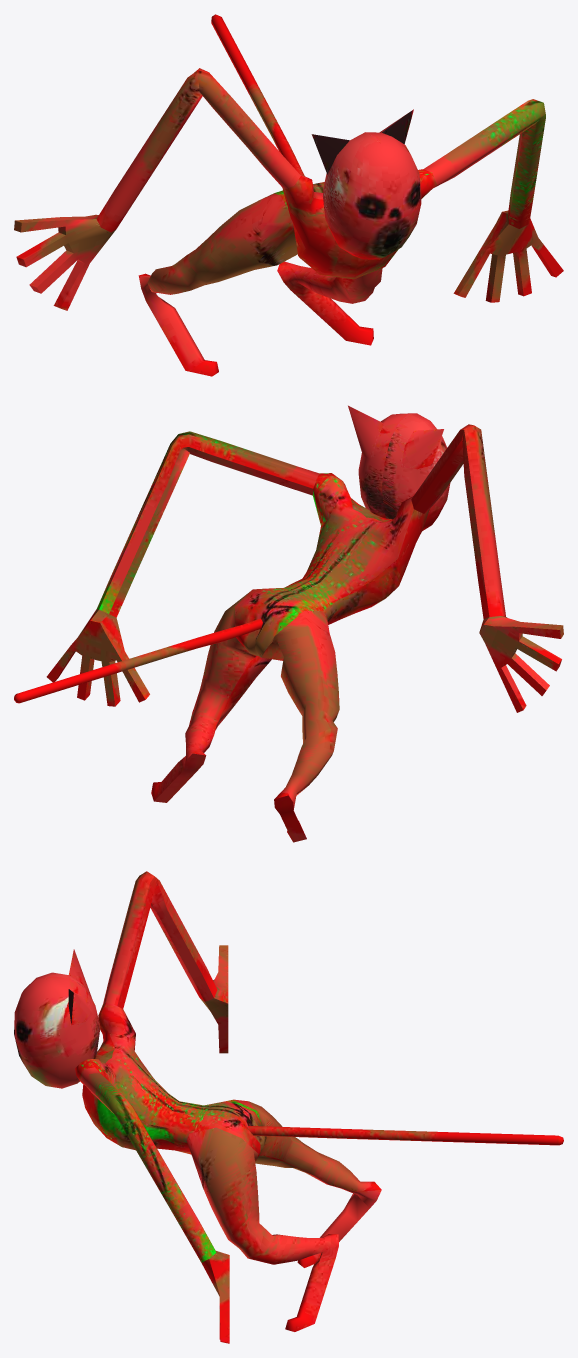
File: SM_Monster_getting_out_1.fbx
3 renders of one model, top to bottom at view 1: azimuth 30°, elevation 25°; view 2: azimuth 150°, elevation 25°; view 3: azimuth 270°, elevation 25°, orthographic. The views are drawn at different scales.
Parts seen in each view (by area): view 1: SM_Monster_getting_out_1; view 2: SM_Monster_getting_out_1; view 3: SM_Monster_getting_out_1.
Part boxes in pixels (x1,y1,x2,y2): SM_Monster_getting_out_1: (14, 14, 563, 376); SM_Monster_getting_out_1: (14, 405, 563, 842); SM_Monster_getting_out_1: (14, 871, 563, 1343).
Bounding box in the file's own units: 416 × 287 × 409.
